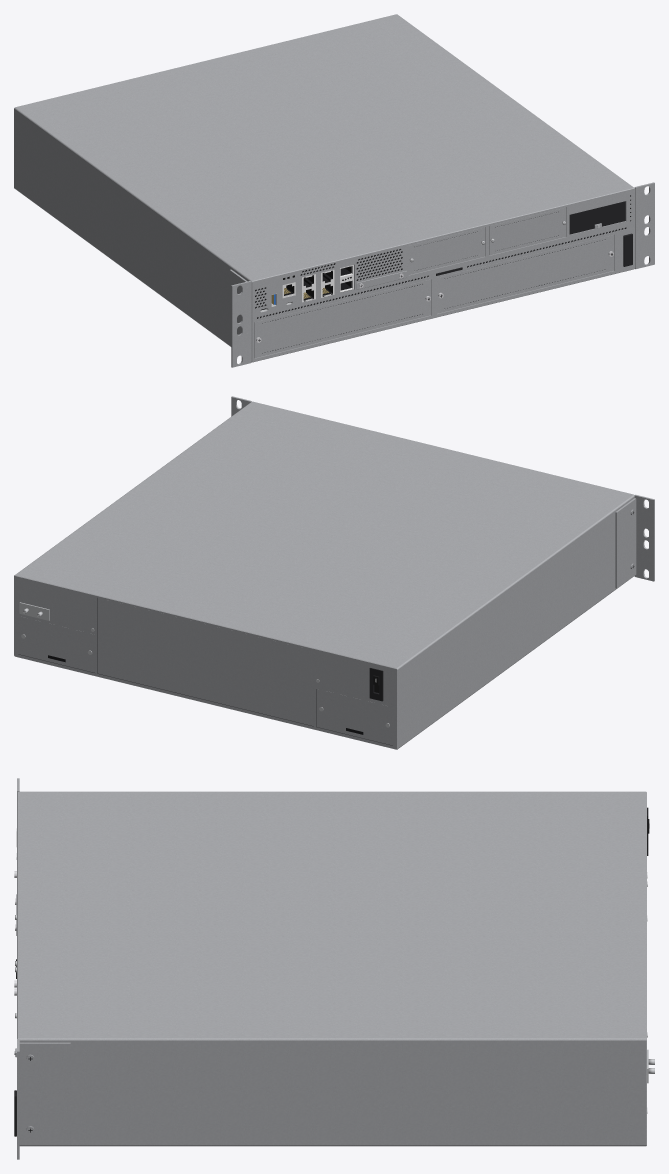
3 renders of one model, top to bottom at view 1: azimuth 30°, elevation 25°; view 2: azimuth 150°, elevation 25°; view 3: azimuth 270°, elevation 25°, orthographic. The views are drawn at different scales.
Parts seen in each view (by area): view 1: Shell, empty:SM 1, empty:SM 2, Rack_Ears, empty:NIM 1, empty:NIM 2, empty:PIM 1; view 2: Shell, empty:Fan Tray, Rack_Ears, empty:PSU1, empty:PSU0; view 3: Shell, Rack_Ears.
Boxes of the visible parts, x1,y1,x2,y2 form: Shell: [14, 14, 635, 362]; empty:SM 1: [254, 279, 430, 358]; empty:SM 2: [437, 235, 613, 313]; Rack_Ears: [229, 182, 654, 367]; empty:NIM 1: [408, 227, 485, 274]; empty:NIM 2: [489, 207, 566, 255]; empty:PIM 1: [569, 201, 625, 234]; Shell: [14, 401, 634, 749]; empty:Fan Tray: [97, 598, 313, 726]; Rack_Ears: [231, 396, 654, 588]; empty:PSU1: [18, 616, 95, 672]; empty:PSU0: [316, 688, 392, 745]; Shell: [14, 791, 654, 1146]; Rack_Ears: [17, 778, 70, 1159].
Size of the model in its own units: 0.4826 by 0.0889 by 0.4787.
Materials: 12 (2 with a texture image).
